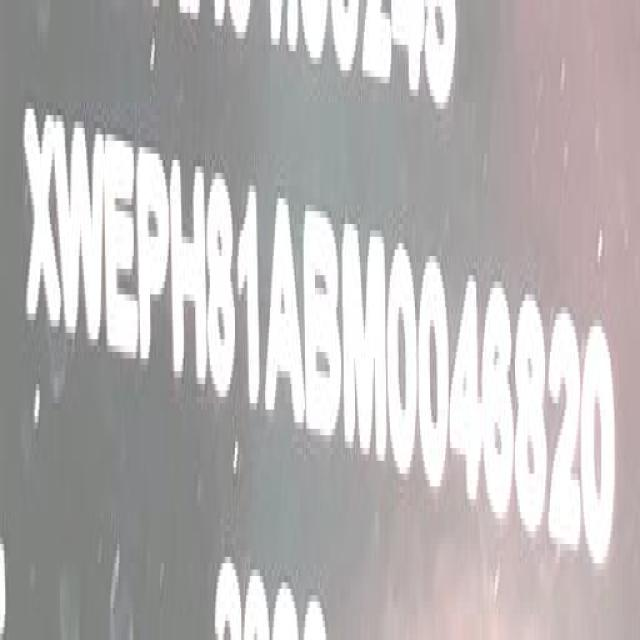0: (583, 330, 618, 572), (418, 251, 450, 498), (388, 239, 420, 484)
1: (239, 176, 262, 420)
2: (550, 310, 582, 556)
4: (450, 266, 483, 514)
6: (481, 274, 515, 524)
8: (516, 288, 548, 542), (207, 163, 238, 403)
A: (266, 187, 307, 436)
B: (304, 200, 343, 447)
E: (104, 128, 139, 368)
H: (169, 154, 208, 405)
M: (341, 209, 389, 474)
P: (135, 137, 169, 377)
W: (61, 115, 105, 356)
X: (22, 96, 61, 344)
